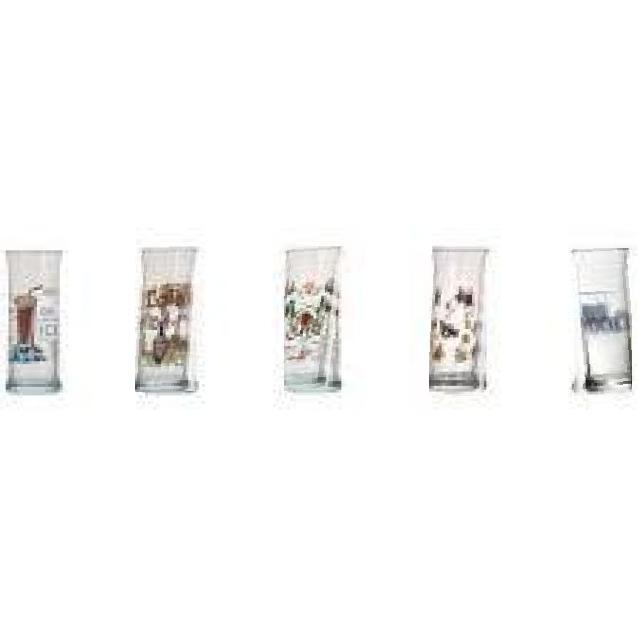Glass: (563, 248, 632, 398), (135, 246, 204, 392), (429, 245, 491, 396), (284, 246, 344, 392)
